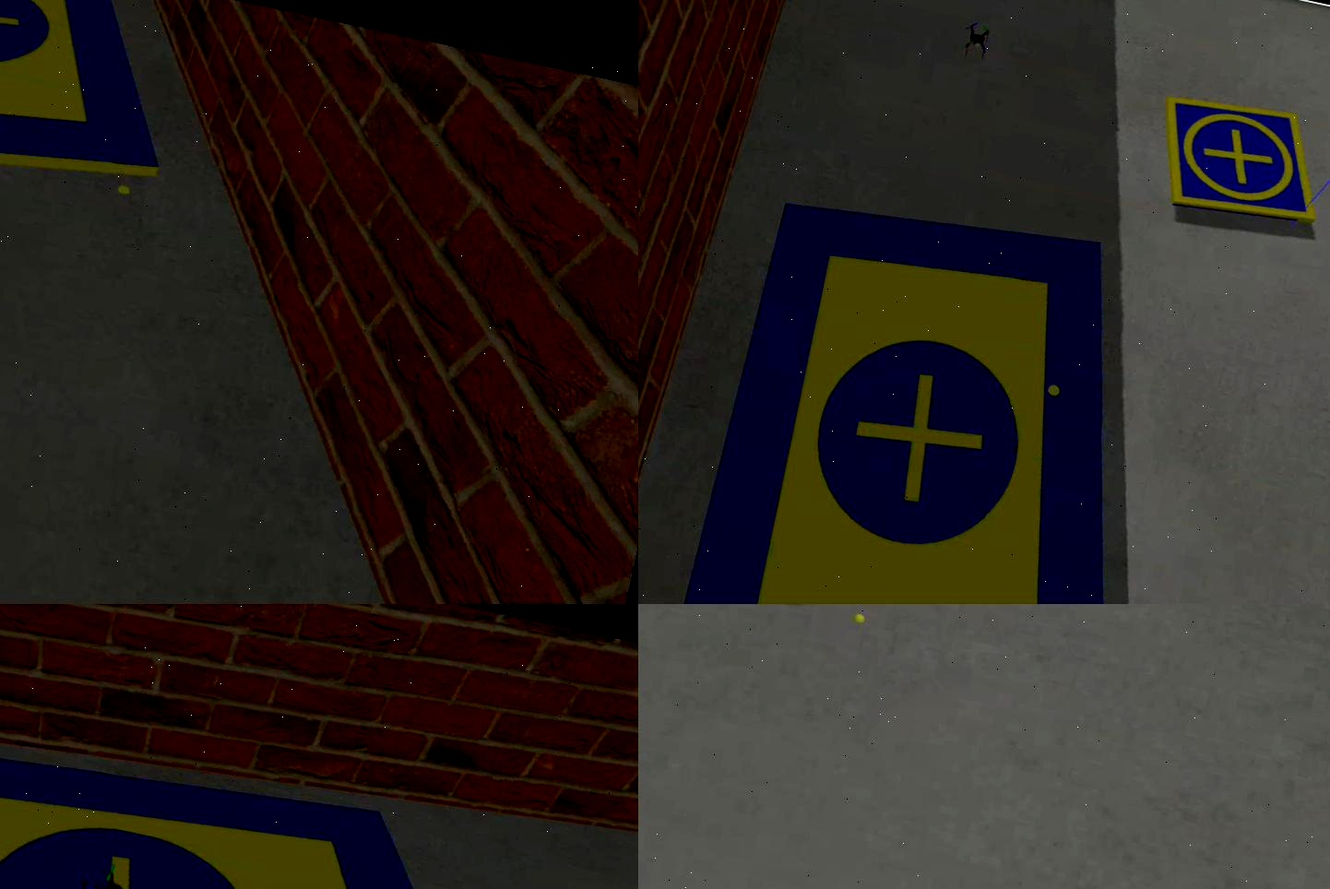large_base: (652, 176, 1210, 605), (1, 661, 600, 889), (1, 1, 201, 229)
small_base: (1146, 90, 1330, 236)
